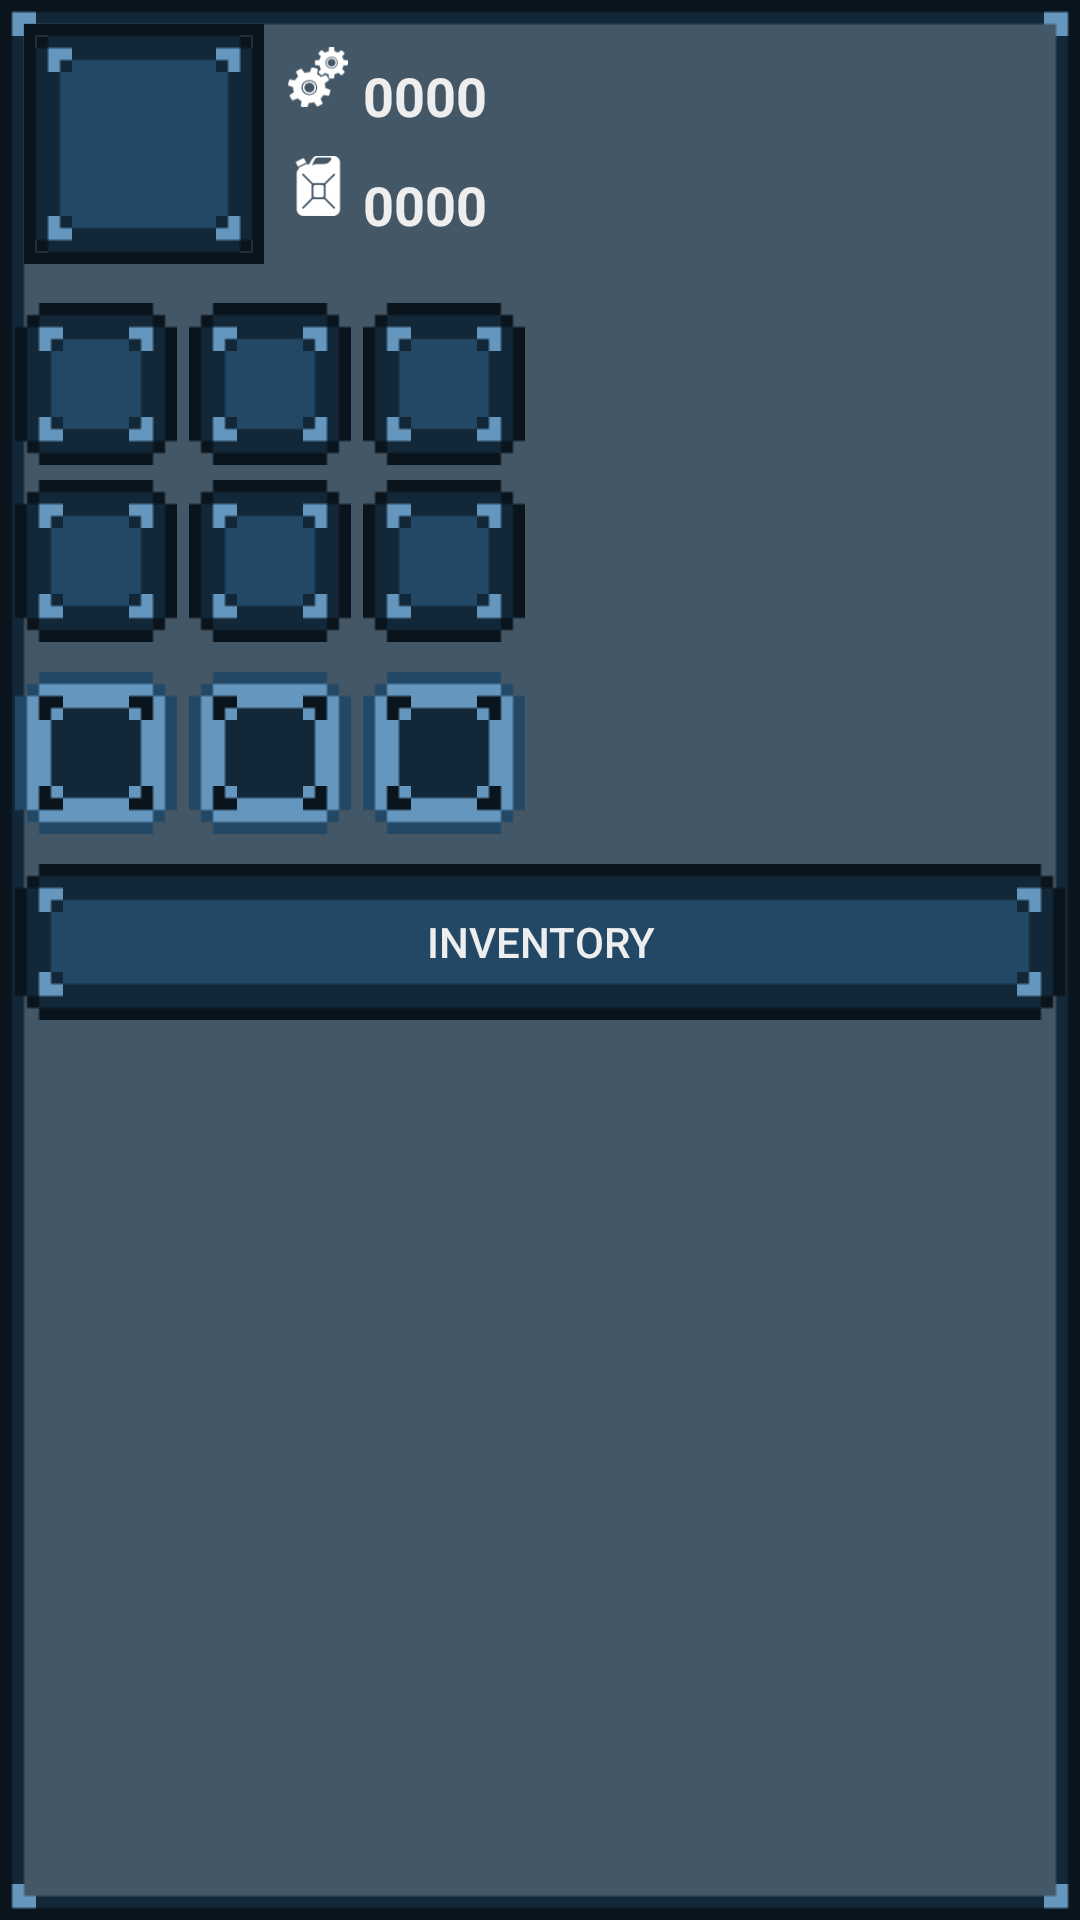

Icon click points for this 1080 × 1920 phone screenshot, format (x,y):
fuel: (318,186)
scrap: (318,77)
